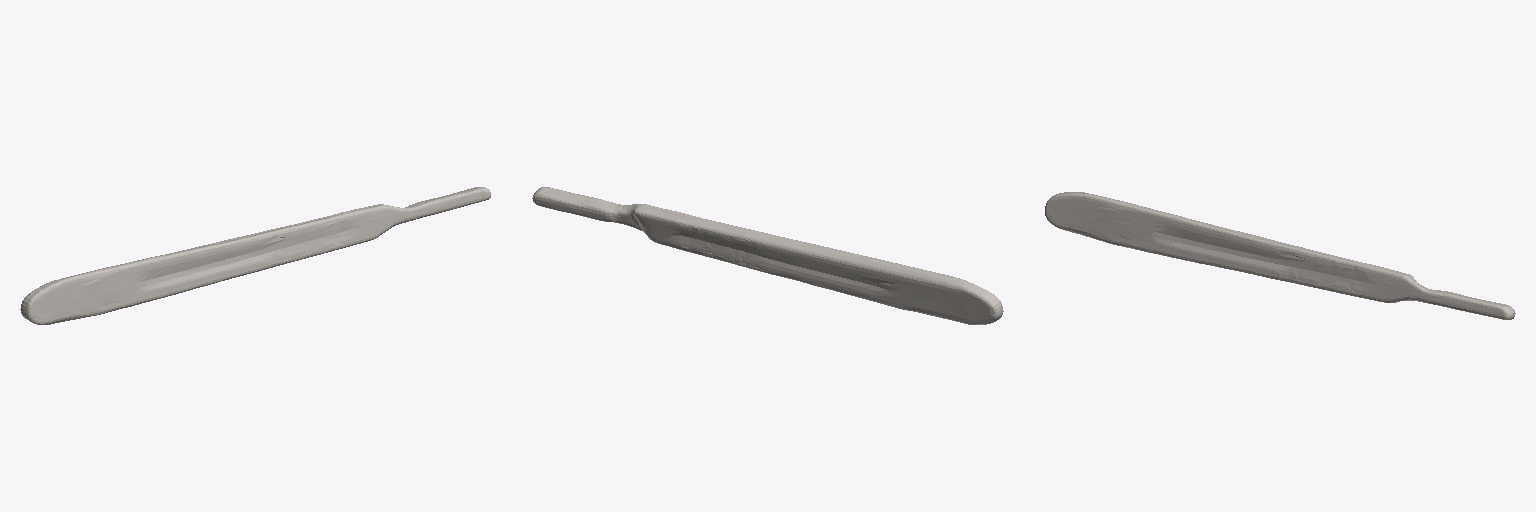
The robot description file, URDF, robot "Tooling_17":
<?xml version="1.0" encoding="utf-8"?>
<!-- This URDF was automatically created by SolidWorks to URDF Exporter! Originally created by Stephen Brawner (brawner@gmail.com)
     Commit Version: 1.6.0-4-g7f85cfe  Build Version: 1.6.7995.38578
     For more information, please see http://wiki.ros.org/sw_urdf_exporter -->
<robot
  name="Tooling_17">
  <link
    name="base_link">
    <inertial>
      <origin
        xyz="-2.8338E-05 2.5062E-05 -4.16E-05"
        rpy="0 0 0" />
      <mass
        value="0.040367" />
      <inertia
        ixx="3.771E-07"
        ixy="-5.131E-07"
        ixz="3.9425E-08"
        iyy="4.9585E-05"
        iyz="2.5271E-08"
        izz="4.9823E-05" />
    </inertial>
    <visual>
      <origin
        xyz="0 0 0"
        rpy="0 0 0" />
      <geometry>
        <mesh
          filename="../meshes/base_link.STL" />
      </geometry>
      <material
        name="">
        <color
          rgba="0.77647 0.75686 0.73725 1" />
      </material>
    </visual>
    <collision>
      <origin
        xyz="0 0 0"
        rpy="0 0 0" />
      <geometry>
        <mesh
          filename="../meshes/base_link.STL" />
      </geometry>
    </collision>
  </link>
</robot>

--- What the picture shows (computed from the rendered views, not written in the file) ---
The picture shows the robot from 3 angles, left to right: view 1: azimuth 30°, elevation 25°; view 2: azimuth 150°, elevation 25°; view 3: azimuth 330°, elevation 25°; orthographic projection.
Model Tooling_17 with 1 links and 0 joints (none), rooted at base_link, posed all joints at 0.
Links seen in each view (by area): view 1: base_link; view 2: base_link; view 3: base_link.
Boxes of the visible links, x1,y1,x2,y2 form: base_link: [20, 187, 490, 324]; base_link: [532, 187, 1003, 324]; base_link: [1045, 192, 1515, 319].
Bounding box of the posed robot: 0.1371 × 0.0059 × 0.0119 m (x, y, z).
1 mesh visuals loaded from 1 distinct referenced files (1 binary STL).
